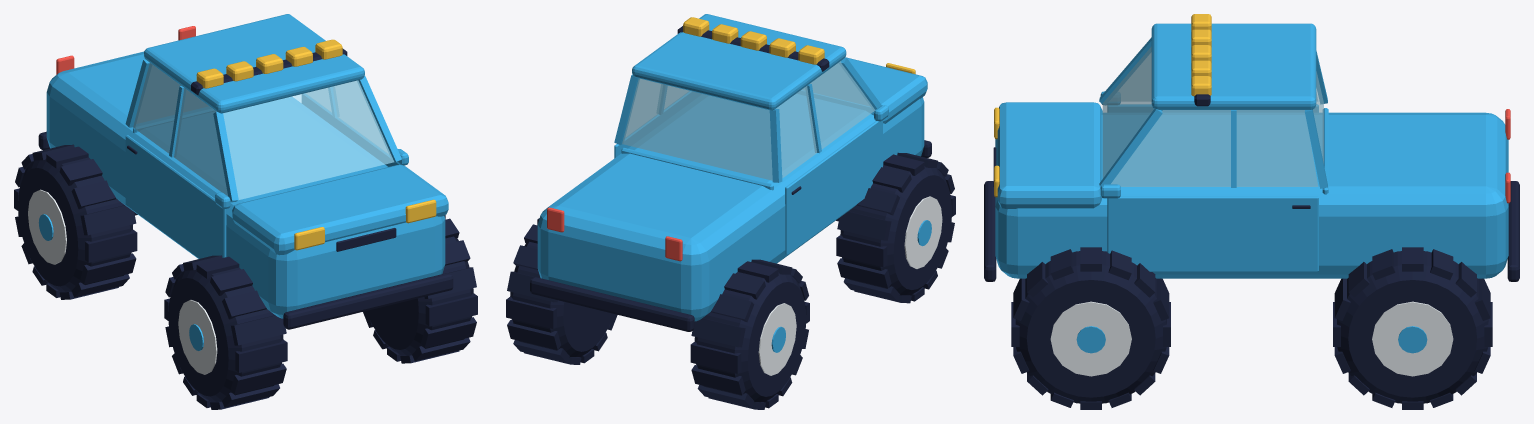
Rendered from B01_monster_truck.glb.
3 renders of one model, left to right at view 1: azimuth 30°, elevation 25°; view 2: azimuth 150°, elevation 25°; view 3: azimuth 270°, elevation 25°, orthographic. The views are drawn at different scales.
Parts seen in each view (by area): view 1: Body, Glass, Wheel_RR, Wheel_FR, Wheel_FL, Door_R, Bumper_Front, RoofLightBar, Door_L, Grille, Headlight_1, Headlight_-1; view 2: Body, Glass, Wheel_RR, Wheel_FR, Wheel_RL, Door_R, Bumper_Rear, RoofLightBar, Door_L, Trunk; view 3: Body, Wheel_RL, Wheel_FL, Glass, Door_L, RoofLightBar, Bumper_Front, Bumper_Rear, Door_R.
Part boxes in pixels (x1,y1,x2,y2): Body: (46,14,448,318); Glass: (133,63,393,199); Wheel_RR: (14,144,137,299); Wheel_FR: (164,255,287,409); Wheel_FL: (363,215,477,363); Door_R: (125,135,226,258); Bumper_Front: (283,273,453,329); RoofLightBar: (191,39,347,94); Door_L: (302,93,399,166); Grille: (336,228,396,251); Headlight_1: (405,199,436,223); Headlight_-1: (294,227,324,250); Body: (537,14,927,321); Glass: (622,61,874,180); Wheel_RR: (690,259,809,409); Wheel_FR: (836,152,955,303); Wheel_RL: (506,218,617,364); Door_R: (785,120,882,255); Bumper_Rear: (530,277,694,331); RoofLightBar: (677,17,829,71); Door_L: (614,91,701,158); Trunk: (621,148,773,190); Body: (995,23,1508,278); Wheel_RL: (1333,247,1492,409); Wheel_FL: (1011,247,1170,409); Glass: (1102,46,1323,186); Door_L: (1107,196,1318,271); RoofLightBar: (1191,14,1211,106); Bumper_Front: (984,181,996,281); Bumper_Rear: (1507,181,1519,281); Door_R: (1107,104,1318,112).
Size of the model in its own units: 3 by 3.2 by 5.2.
